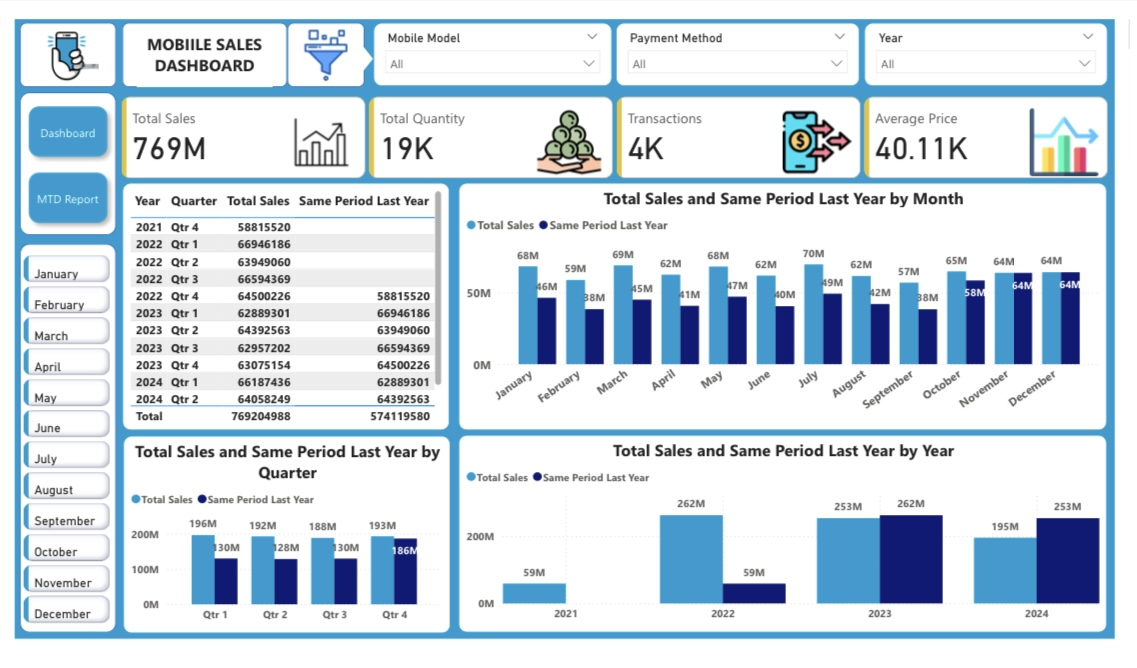

The dashboard page shown, as its layout file describes it:
{"tool":"powerbi","page":{"name":"Same Period Last Year","canvas":[1280,720],"ordinal":2},"visuals":[{"type":"shape","box":[5.7,85,112,166],"z":0},{"type":"cardVisual","fields":{"Data":["My Measure.Total Sales","My Measure.Total Quantity","My Measure.Total Transactions","My Measure.Average Price"]},"box":[119,85,1159.4,104.9],"z":1000},{"type":"slicer","fields":{"Values":["Sales Data.Mobile Model"]},"box":[416.7,4.3,278,73.7],"z":2000},{"type":"slicer","fields":{"Values":["Custom Calender.Date.Variation.Date Hierarchy.Year"]},"box":[988,4.3,284,73.7],"z":3000},{"type":"slicer","fields":{"Values":["Sales Data.Payment Method"]},"box":[698.7,4.3,284,73.7],"z":4000},{"type":"shape","box":[317.5,4.3,89.3,75.1],"z":5000},{"type":"image","box":[317.5,5.7,89.3,72.3],"z":6000},{"type":"shape","box":[386.9,26.9,29.8,38.3],"z":7000},{"type":"shape","box":[124.7,4.3,192.8,75.1],"z":8000},{"type":"textbox","box":[141.7,9.9,158.7,69.4],"z":9000},{"type":"shape","box":[5.7,260.8,112,452.1],"z":10000},{"type":"advancedSlicerVisual","fields":{"Values":["Custom Calender.Date.Variation.Date Hierarchy.Month"]},"box":[5,269,111.4,441.4],"z":11000},{"type":"tableEx","fields":{"Values":["Custom Calender.Date.Variation.Date Hierarchy.Year","Custom Calender.Date.Variation.Date Hierarchy.Quarter","My Measure.Total Sales","My Measure.SamePeriod"]},"box":[124.7,189.9,381.3,287.7],"z":12000},{"type":"clusteredColumnChart","fields":{"Y":["My Measure.Total Sales","My Measure.Same Period Last Year"],"Category":["Custom Calender.Date.Variation.Date Hierarchy.Year","Custom Calender.Date.Variation.Date Hierarchy.Month"]},"box":[515.9,189.9,755.4,287.7],"z":13000},{"type":"clusteredColumnChart","fields":{"Category":["Custom Calender.Date.Variation.Date Hierarchy.Year"],"Y":["My Measure.Total Sales","My Measure.Same Period Last Year"]},"box":[515.9,483.3,755.4,230],"z":14000},{"type":"clusteredColumnChart","fields":{"Y":["My Measure.Total Sales","My Measure.Same Period Last Year"],"Category":["Custom Calender.Date.Variation.Date Hierarchy.Quarter"]},"box":[126,484,381.3,229.6],"z":15000},{"type":"pageNavigator","box":[7,92,110,155],"z":16000},{"type":"shape","box":[5.7,4.3,112,75.1],"z":17000},{"type":"image","box":[18,0,85,85],"z":18000}]}

Visuals, with their boxes on the page's 1280x720 design canvas (x1, y1, x2, y2). These are canvas units, not pixel positions in the 1137x668 screenshot, which may show the page scaled, cropped or inside an application window:
shape: 6/85/118/251
cardVisual - My Measure.Total Sales x My Measure.Total Quantity: 119/85/1278/190
slicer - Sales Data.Mobile Model: 417/4/695/78
slicer - Custom Calender.Date.Variation.Date Hierarchy.Year: 988/4/1272/78
slicer - Sales Data.Payment Method: 699/4/983/78
shape: 318/4/407/79
image: 318/6/407/78
shape: 387/27/417/65
shape: 125/4/318/79
textbox: 142/10/300/79
shape: 6/261/118/713
advancedSlicerVisual - Custom Calender.Date.Variation.Date Hierarchy.Month: 5/269/116/710
tableEx - Custom Calender.Date.Variation.Date Hierarchy.Year x Custom Calender.Date.Variation.Date Hierarchy.Quarter: 125/190/506/478
clusteredColumnChart - My Measure.Total Sales x My Measure.Same Period Last Year: 516/190/1271/478
clusteredColumnChart - Custom Calender.Date.Variation.Date Hierarchy.Year x My Measure.Total Sales: 516/483/1271/713
clusteredColumnChart - My Measure.Total Sales x My Measure.Same Period Last Year: 126/484/507/714
pageNavigator: 7/92/117/247
shape: 6/4/118/79
image: 18/0/103/85
